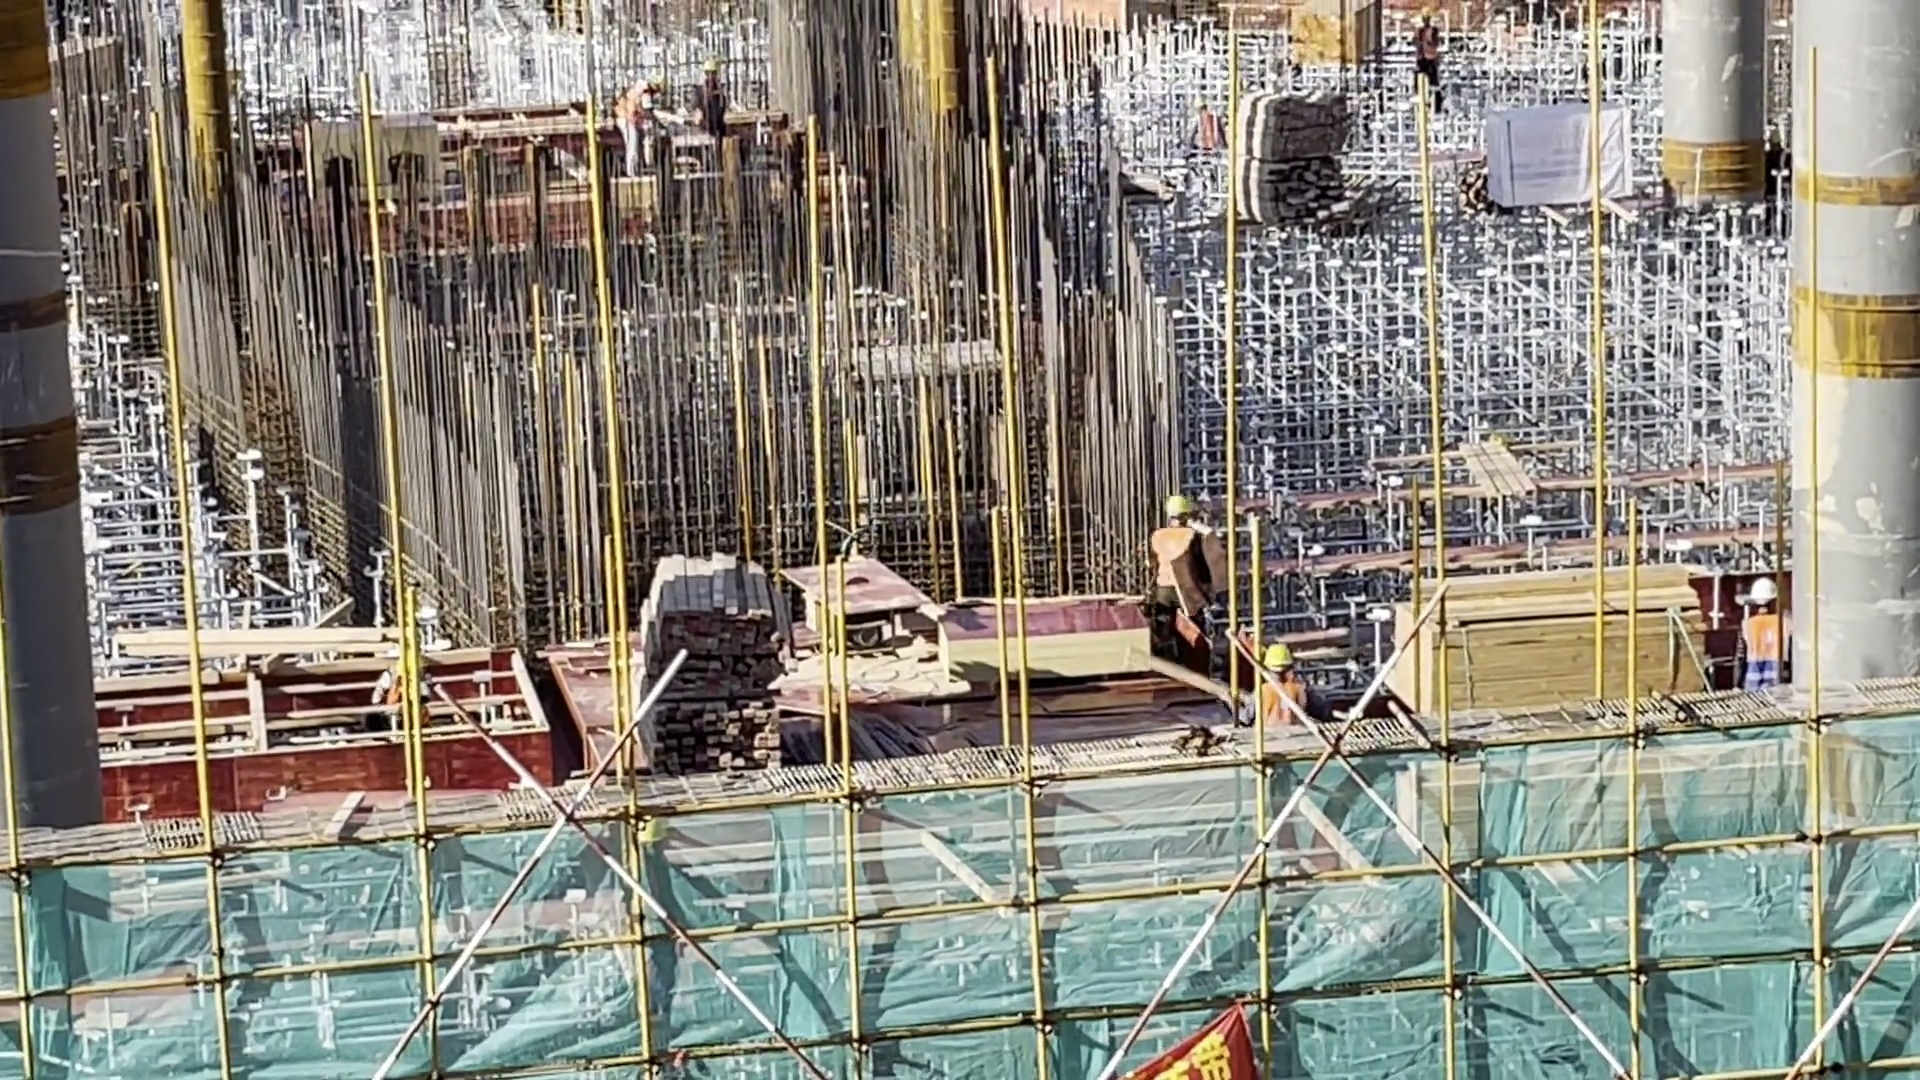helmet: (1260, 637, 1308, 680), (1745, 574, 1789, 613), (1160, 490, 1199, 528)
person: (1143, 482, 1230, 650), (1732, 572, 1800, 697), (1245, 638, 1317, 731)
slogan: (1092, 980, 1255, 1080)
vest: (1734, 608, 1793, 687), (1263, 680, 1310, 737)
wood: (1381, 550, 1726, 738), (634, 534, 840, 790)
